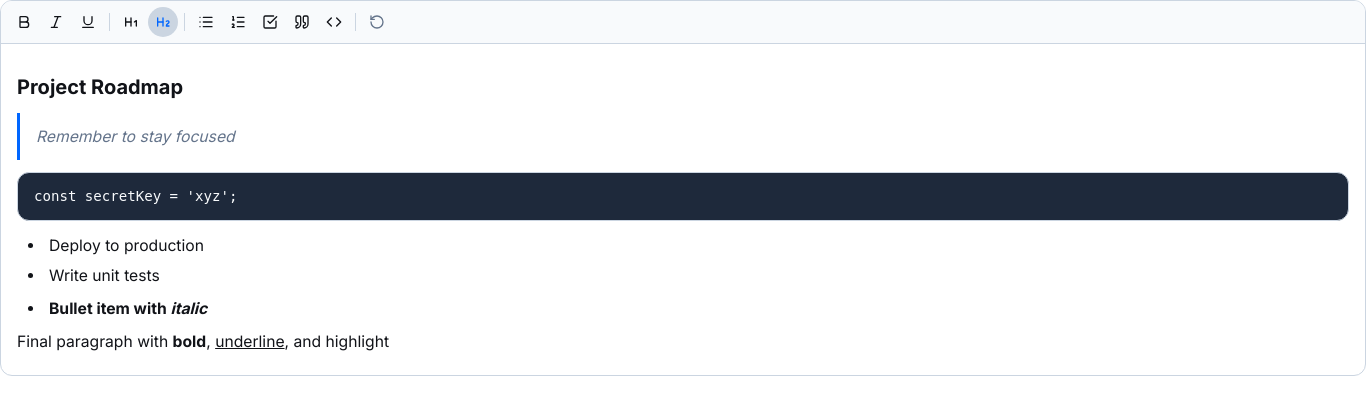
Test: RichTextEditor Component › clears all formatting (headings, checklists, quotes, code, lists, styles) even without active selection
Click the button titled "Clear Formatting". click: (377, 22)
box: [362,7,392,37]
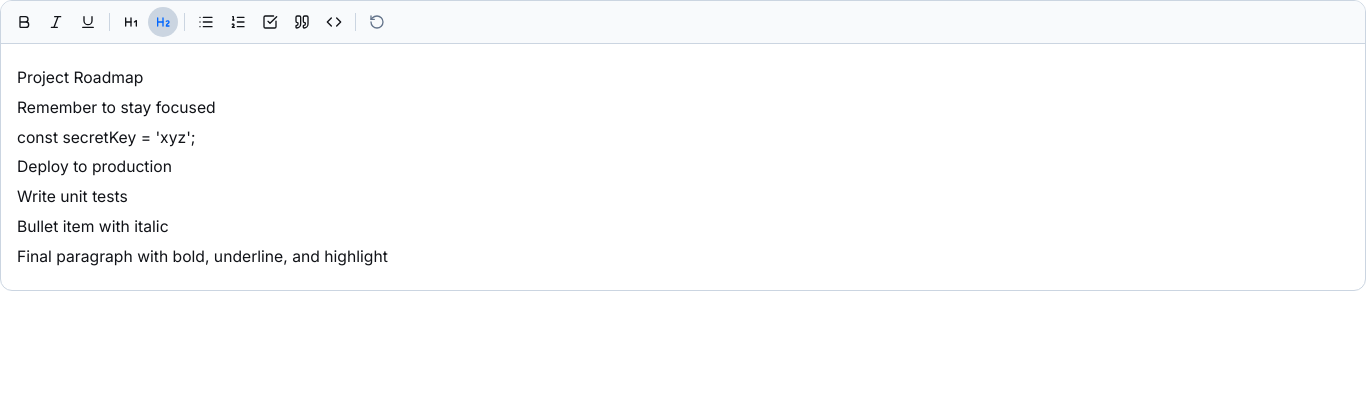
Expected: the field shows "Project Roadmap", [17,68,388,266]
Expected: the list is gone
